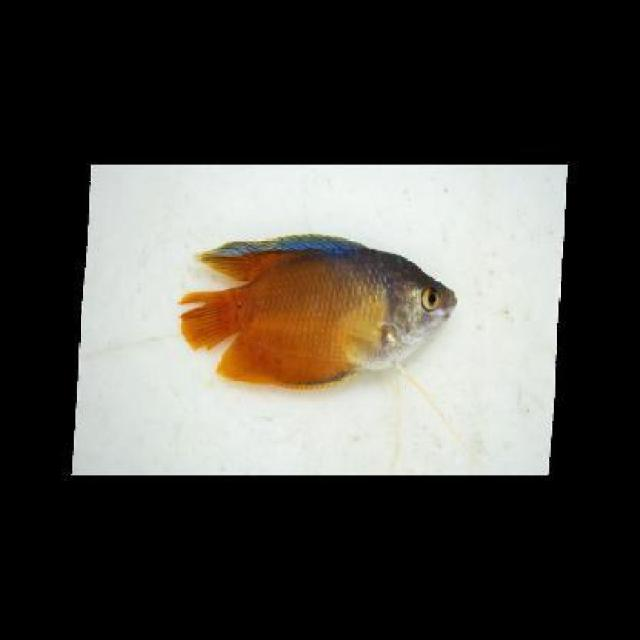Gourami: (177, 222, 460, 387)
